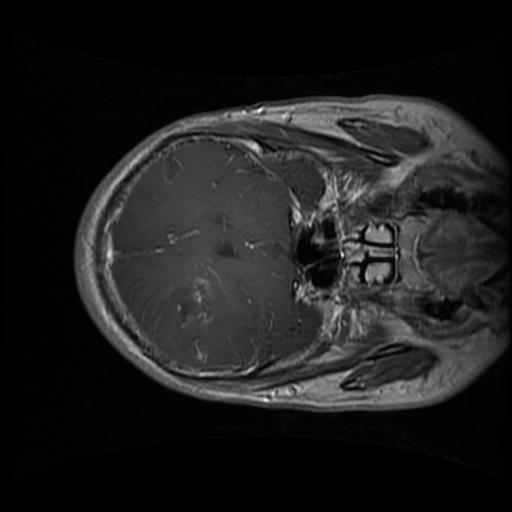glioma: (167, 265, 223, 330)
